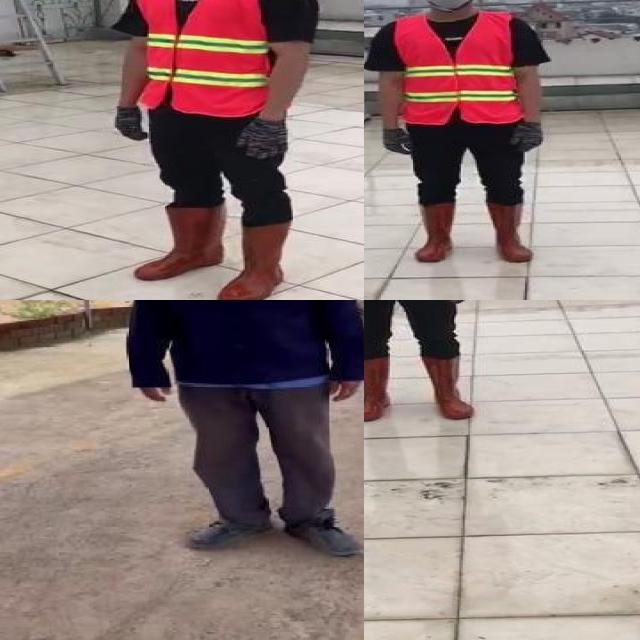boots: (127, 206, 225, 279), (216, 220, 294, 300), (422, 355, 477, 421), (488, 202, 536, 265), (414, 201, 456, 265), (364, 355, 395, 423)
face_mask: (418, 0, 476, 9)
hand_glove: (233, 117, 291, 162), (116, 104, 154, 141), (381, 127, 417, 155), (512, 121, 544, 152)
hand_noglove: (324, 371, 364, 403), (132, 379, 176, 407)
person: (100, 0, 327, 300), (121, 300, 364, 564), (366, 0, 564, 268), (364, 300, 488, 423)
shoes: (272, 503, 364, 563), (182, 502, 276, 556)
vest: (127, 0, 298, 117), (393, 13, 525, 125)
